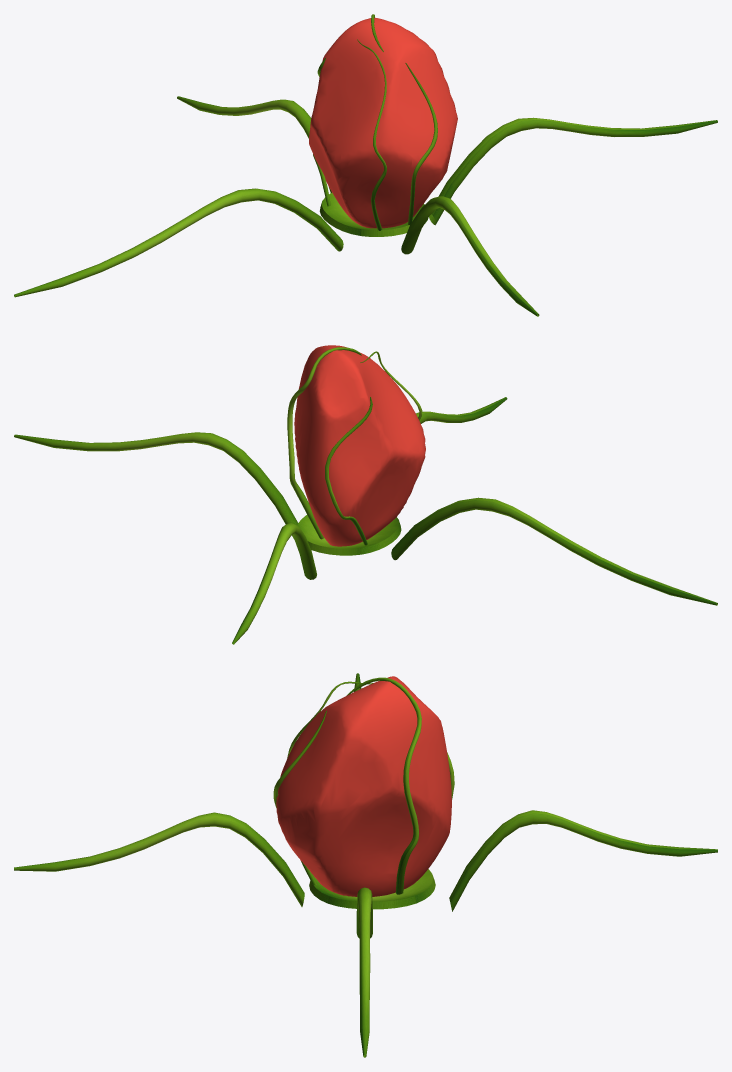
File: Heart Oquídea.fbx
The picture shows the model from 3 angles, top to bottom: view 1: azimuth 30°, elevation 25°; view 2: azimuth 150°, elevation 25°; view 3: azimuth 270°, elevation 25°; orthographic projection. The views are drawn at different scales.
Parts seen in each view (by area): view 1: Heart, BezierCurve, BezierCurve.004, BezierCurve.003, BezierCurve.006, BezierCurve.005, Plane; view 2: Heart, BezierCurve, BezierCurve.004, BezierCurve.006, BezierCurve.005, Plane, BezierCurve.003; view 3: Heart, BezierCurve.003, BezierCurve.005, BezierCurve.006, BezierCurve.004, Plane.
Boxes of the visible parts, x1,y1,x2,y2 form: Heart: (309, 17, 457, 228); BezierCurve: (14, 188, 343, 297); BezierCurve.004: (429, 117, 717, 225); BezierCurve.003: (401, 196, 539, 316); BezierCurve.006: (313, 14, 437, 230); BezierCurve.005: (177, 96, 331, 192); Plane: (319, 193, 428, 236); Heart: (294, 345, 425, 546); BezierCurve: (391, 497, 717, 605); BezierCurve.004: (14, 432, 297, 524); BezierCurve.006: (287, 347, 422, 545); BezierCurve.005: (232, 523, 316, 644); Plane: (297, 515, 401, 555); BezierCurve.003: (416, 397, 507, 423); Heart: (276, 676, 451, 896); BezierCurve.003: (14, 812, 304, 906); BezierCurve.005: (449, 810, 717, 911); BezierCurve.006: (273, 677, 454, 894); BezierCurve.004: (356, 887, 372, 1057); Plane: (309, 869, 435, 909).
Bounding box in the file's own units: 467 × 134 × 364.
